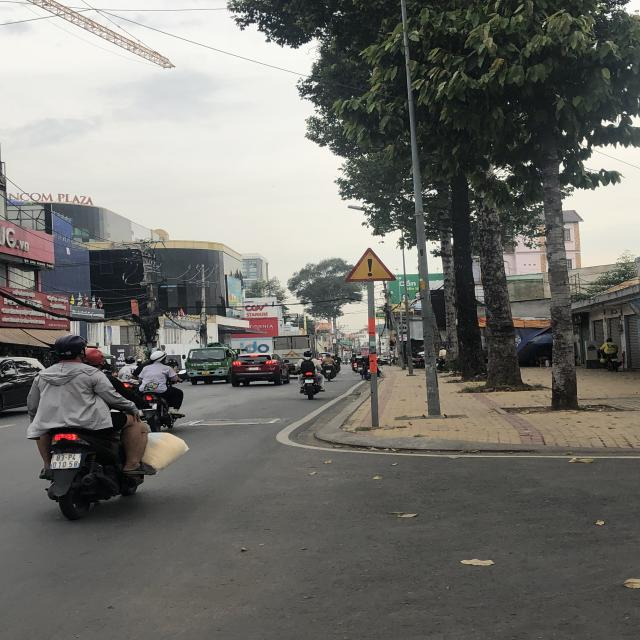Bien bao nguy hiem khac: (342, 246, 398, 284)
